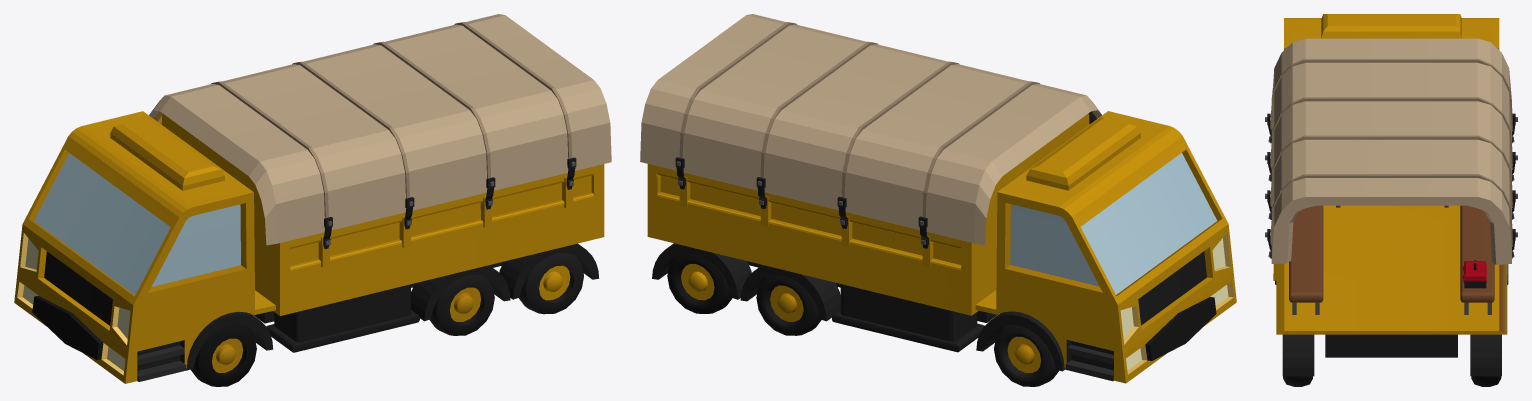
Rendered from giriş ekranı kamyonu.fbx.
The picture shows the model from 3 angles, left to right: view 1: azimuth 30°, elevation 25°; view 2: azimuth 150°, elevation 25°; view 3: azimuth 270°, elevation 25°; orthographic projection. The views are drawn at different scales.
Parts seen in each view (by area): view 1: Plane.002; view 2: Plane.002; view 3: Plane.002.
Boxes of the visible parts, x1,y1,x2,y2 form: Plane.002: (14, 14, 611, 386); Plane.002: (640, 14, 1236, 386); Plane.002: (1265, 14, 1517, 386).
Bounding box in the file's own units: 299 × 129 × 139.
Materials: 1 (1 with a texture image).
